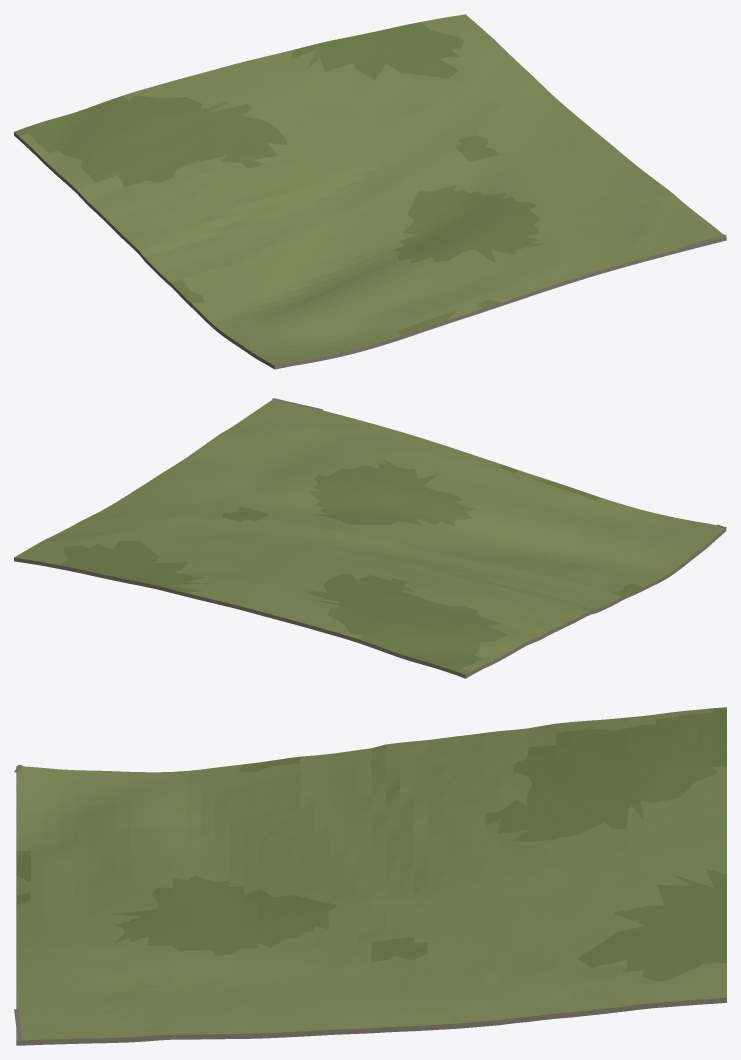
Rendered from parca_+8_-2-uzak.glb.
3 renders of one model, top to bottom at view 1: azimuth 30°, elevation 25°; view 2: azimuth 150°, elevation 25°; view 3: azimuth 270°, elevation 25°, orthographic. The views are drawn at different scales.
Visible parts, largest first — view 1: parca_+8_-2_arazi_uzak; view 2: parca_+8_-2_arazi_uzak; view 3: parca_+8_-2_arazi_uzak.
Boxes of the visible parts, x1,y1,x2,y2 form: parca_+8_-2_arazi_uzak: [14, 14, 726, 369]; parca_+8_-2_arazi_uzak: [14, 398, 726, 678]; parca_+8_-2_arazi_uzak: [16, 707, 726, 1045].
Bounding box in the file's own units: 1005 × 139 × 1003.
